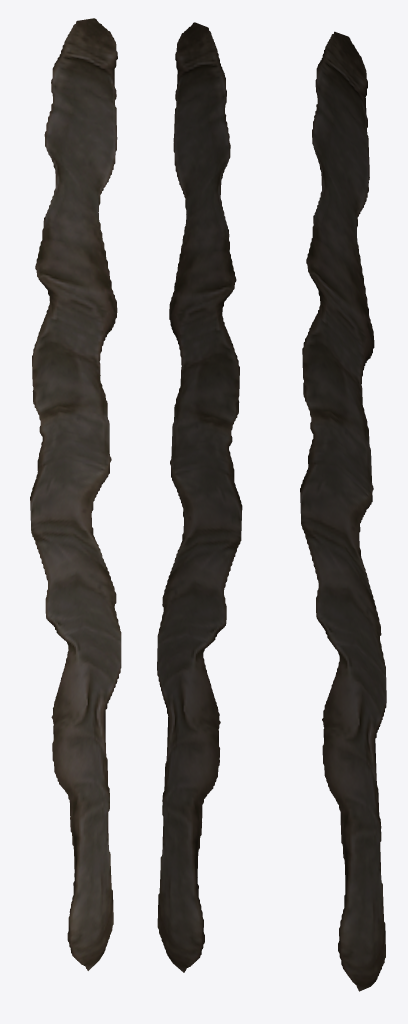
File: TI_Old_Foliage_06.fbx
3 renders of one model, left to right at view 1: azimuth 30°, elevation 25°; view 2: azimuth 150°, elevation 25°; view 3: azimuth 330°, elevation 25°, orthographic.
Visible parts, largest first — view 1: TI_Old_Foliage_06; view 2: TI_Old_Foliage_06; view 3: TI_Old_Foliage_06.
Boxes of the visible parts, x1,y1,x2,y2 form: TI_Old_Foliage_06: [30, 18, 121, 970]; TI_Old_Foliage_06: [157, 22, 242, 972]; TI_Old_Foliage_06: [300, 31, 386, 991].
Size of the model in its own units: 0.1477 by 1.3 by 0.0288.
